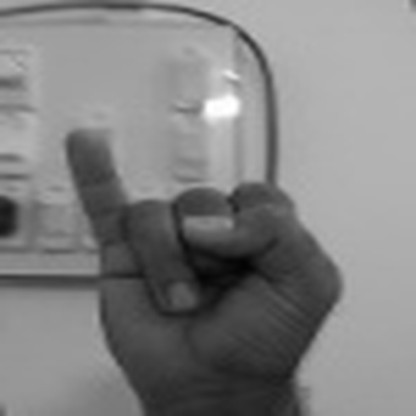i: (57, 125, 351, 398)
